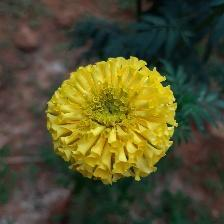marigold: (48, 54, 180, 185)
